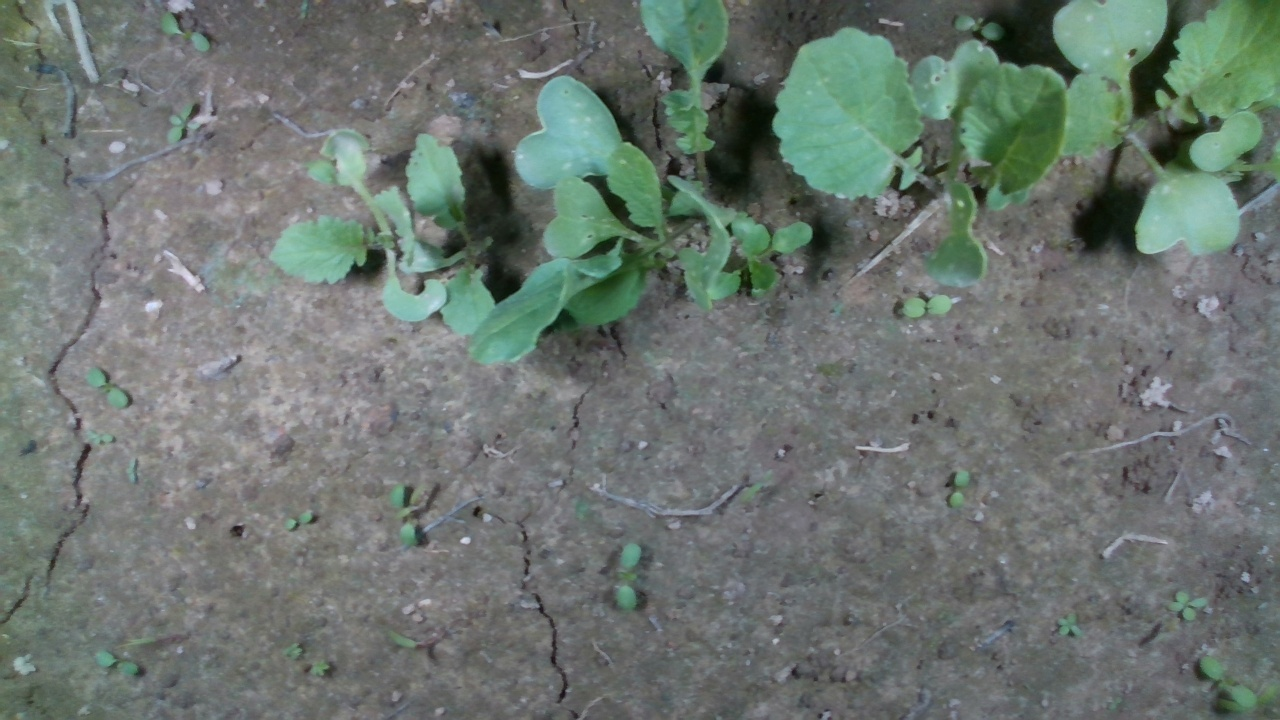weed: (158, 10, 211, 54), (83, 364, 131, 411), (613, 541, 643, 612), (386, 481, 417, 548), (163, 94, 200, 146), (952, 13, 1007, 40), (899, 293, 953, 319), (1164, 591, 1209, 622), (92, 649, 140, 678), (947, 467, 971, 509), (1055, 610, 1082, 639), (280, 509, 314, 530), (85, 430, 117, 448), (124, 454, 139, 484)
